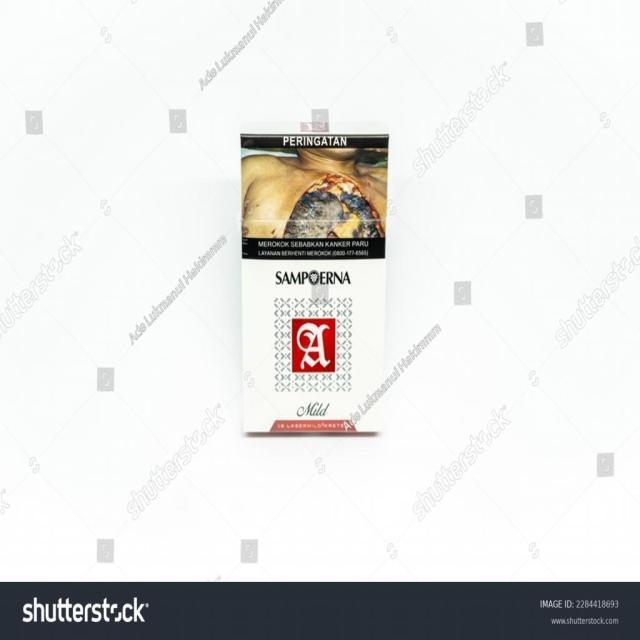smoking: (241, 123, 389, 435)
